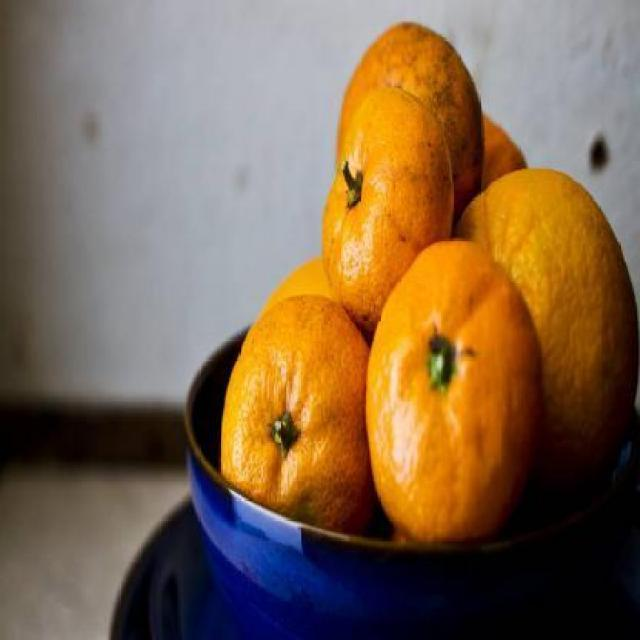Jeruk Sudah Matang: (438, 153, 637, 492), (365, 239, 541, 544), (221, 289, 374, 562), (338, 23, 486, 252), (324, 91, 456, 311)
